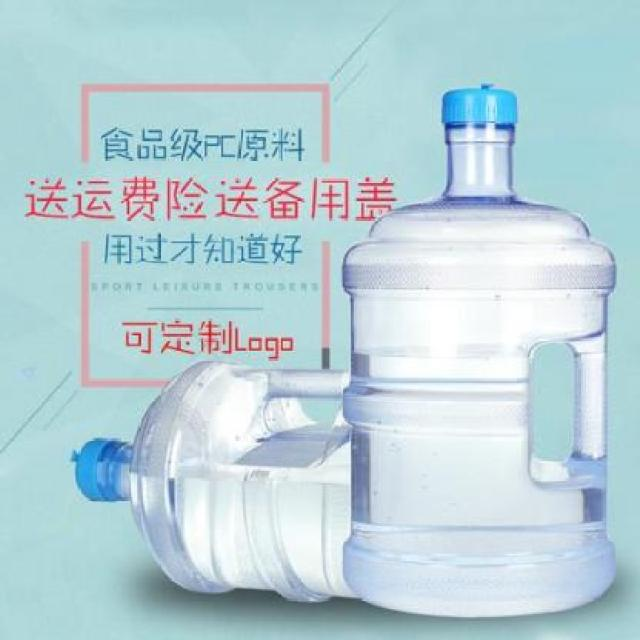coolerbottle: (337, 83, 623, 624)
